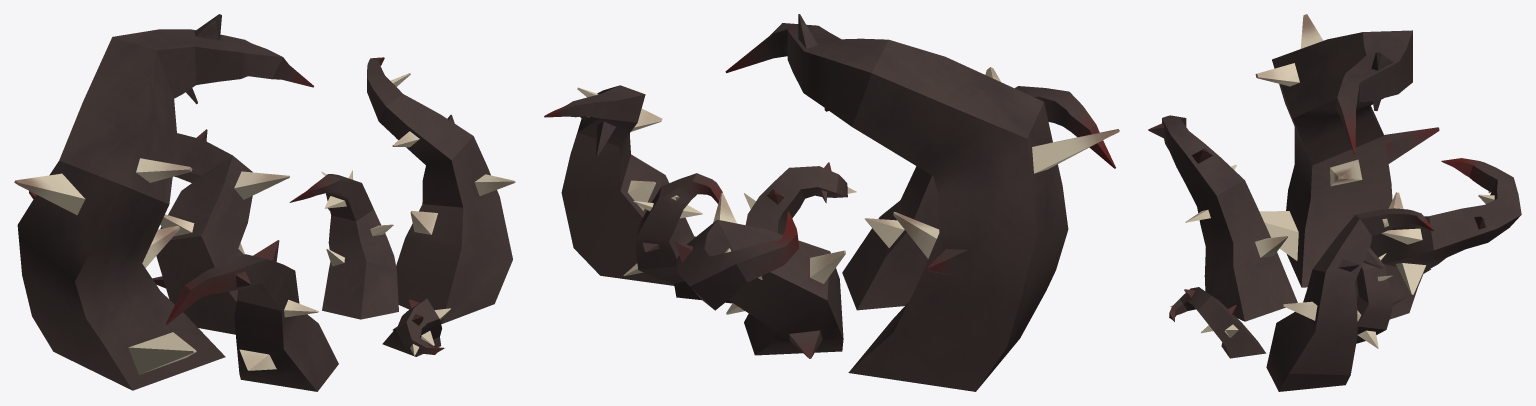
File: 3DObj_thorns.fbx
The picture shows the model from 3 angles, left to right: view 1: azimuth 30°, elevation 25°; view 2: azimuth 150°, elevation 25°; view 3: azimuth 270°, elevation 25°; orthographic projection. The views are drawn at different scales.
Visible parts, largest first — view 1: 平面.029; view 2: 平面.029; view 3: 平面.029.
Part boxes in pixels (bbox=[...]): 平面.029: bbox=[14, 14, 515, 391]; 平面.029: bbox=[544, 14, 1119, 391]; 平面.029: bbox=[1148, 14, 1521, 391].
Bounding box in the file's own units: 202 × 119 × 158.
Materials: 1 (1 with a texture image).
